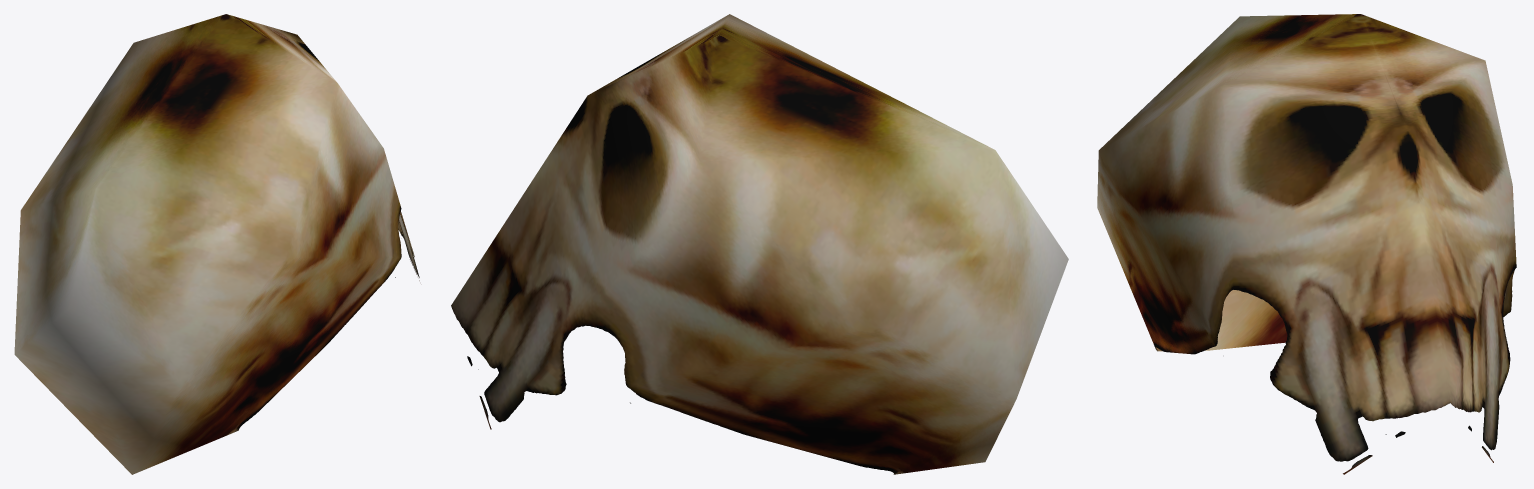
Rendered from blastedlandsskull01.obj.
3 renders of one model, left to right at view 1: azimuth 30°, elevation 25°; view 2: azimuth 150°, elevation 25°; view 3: azimuth 270°, elevation 25°, orthographic. The views are drawn at different scales.
Visible parts, largest first — view 1: blastedlandsskull01; view 2: blastedlandsskull01; view 3: blastedlandsskull01.
Part boxes in pixels (x1,y1,x2,y2): blastedlandsskull01: [14, 14, 419, 474]; blastedlandsskull01: [451, 14, 1068, 474]; blastedlandsskull01: [1097, 14, 1516, 474].
Bounding box in the file's own units: 0.4813 × 0.4053 × 0.3642.
Materials: 1 (1 with a texture image).
